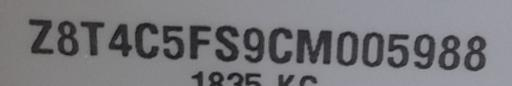letter: (294, 27, 334, 65), (25, 16, 55, 55), (106, 20, 134, 59), (134, 21, 162, 60), (78, 18, 106, 56), (267, 24, 293, 64), (214, 23, 240, 61), (188, 22, 212, 62), (464, 33, 488, 71), (56, 19, 80, 56), (386, 30, 410, 67), (161, 23, 185, 59), (438, 33, 462, 69), (412, 32, 436, 67), (242, 25, 264, 63), (336, 28, 358, 66), (362, 28, 384, 65)
